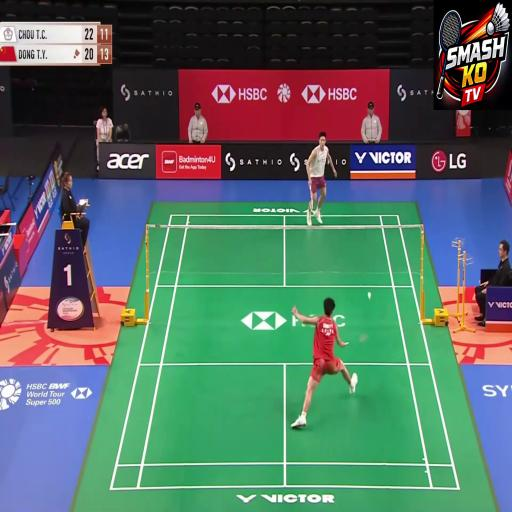player: (290, 273, 348, 433), (291, 122, 331, 256)
